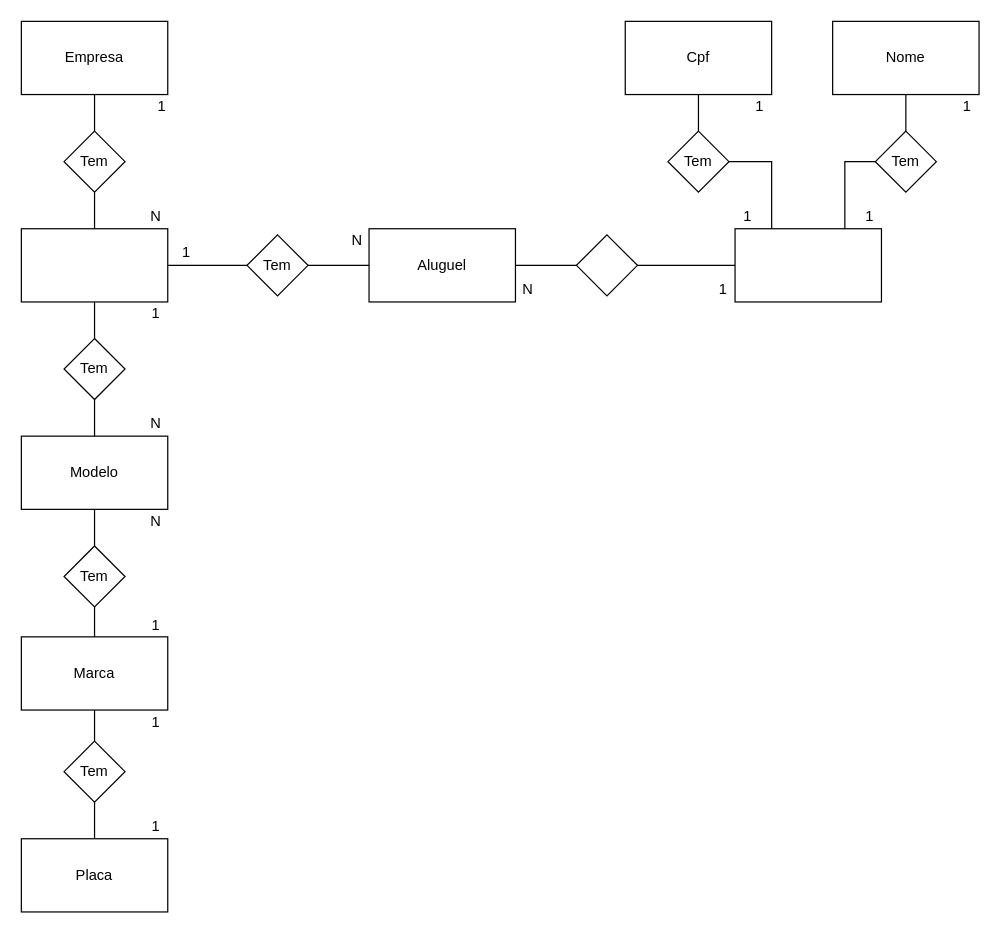
Some shapes in this 1000 by 933 pixel diagram are drawn without their labels. Each missing label, with the centre of its shape:
"Cliente" goes at point 807,265.
"Faz" goes at point 606,265.
"Veiculo" goes at point 94,265.
